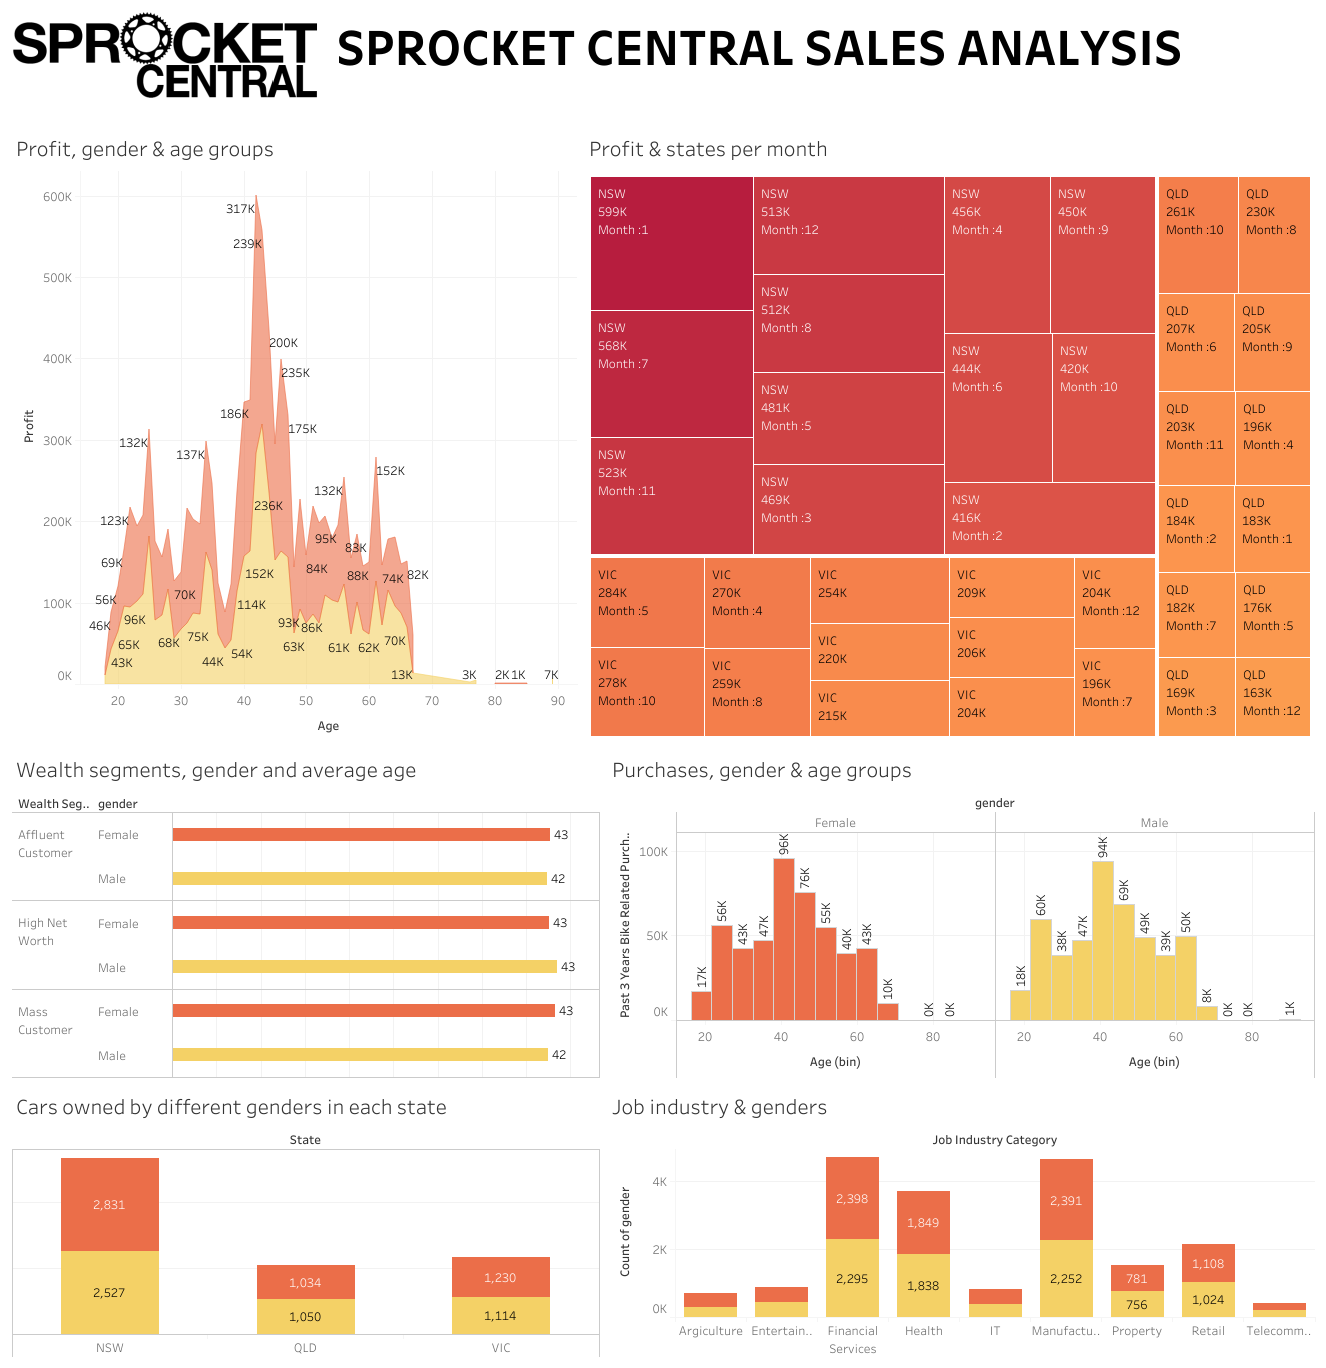

What the dashboard file says about the page in this screenshot:
{"tool":"tableau","page":{"name":"Dashboard 1","canvas":[1327,1369],"ordinal":0},"visuals":[{"type":"image","param":"Image/sprocket_central_logo.png","box":[8,8,322.2,116]},{"type":"text","box":[330.2,8,988.8,116]},{"type":"worksheet","title":"Profit, gender & age groups","mark":"Area","rows":["profit"],"cols":["Age"],"box":[8,124,573,620.5]},{"type":"worksheet","title":"Profit & states per month","mark":"Automatic","box":[581,124,738,620.5]},{"type":"worksheet","title":"Wealth segments, gender and average age","mark":"Bar","rows":["wealth_segment","gender"],"cols":["Age"],"box":[8,744.5,596.1,337.6]},{"type":"worksheet","title":"Purchases, gender & age groups","mark":"Bar","rows":["past_3_years_bike_related_purchases"],"cols":["gender","Age (bin)"],"box":[604.1,744.5,714.9,337.7]},{"type":"worksheet","title":"Cars owned by different genders in each state","mark":"Automatic","rows":["customer_id"],"cols":["owns_car","state"],"box":[8,1082.2,596.1,278.9]},{"type":"worksheet","title":"Job industry & genders","mark":"Automatic","rows":["gender"],"cols":["job_industry_category"],"box":[604.1,1082.2,714.9,278.8]}]}

Visuals, with their boxes in screenshot pixels (x1, y1, x2, y2), scaled from the page's 1327x1369 canvas onto the 1326x1368 screenshot:
image: [left=8, top=8, right=330, bottom=124]
text: [left=330, top=8, right=1318, bottom=124]
"Profit, gender & age groups" worksheet (Area marks): [left=8, top=124, right=581, bottom=744]
"Profit & states per month" worksheet: [left=581, top=124, right=1318, bottom=744]
"Wealth segments, gender and average age" worksheet (Bar marks): [left=8, top=744, right=604, bottom=1081]
"Purchases, gender & age groups" worksheet (Bar marks): [left=604, top=744, right=1318, bottom=1081]
"Cars owned by different genders in each state" worksheet: [left=8, top=1081, right=604, bottom=1360]
"Job industry & genders" worksheet: [left=604, top=1081, right=1318, bottom=1360]
